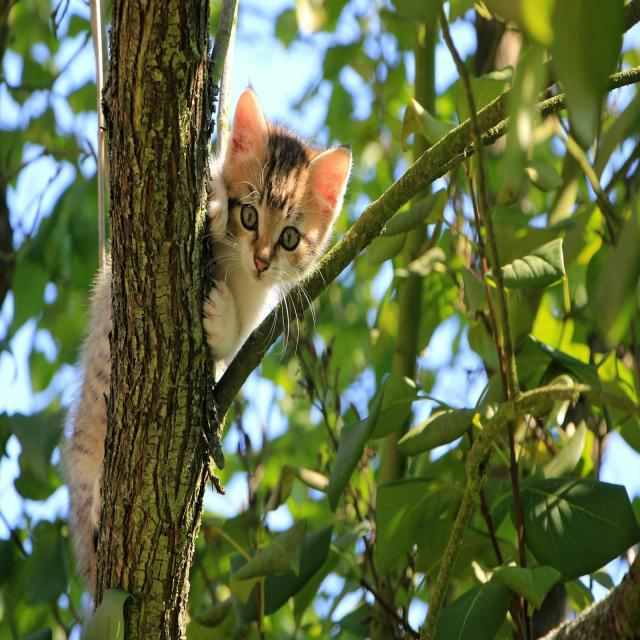Cat: (56, 84, 354, 619)
